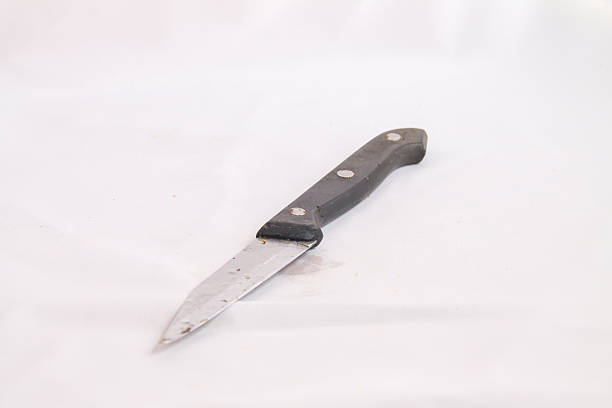knife: (149, 125, 430, 355)
